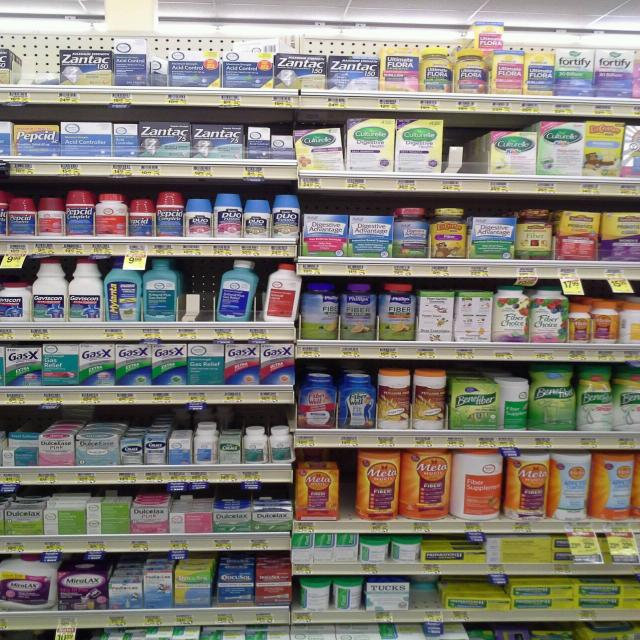empty: (178, 259, 213, 321), (444, 120, 484, 174), (21, 55, 58, 87), (412, 578, 440, 609)
